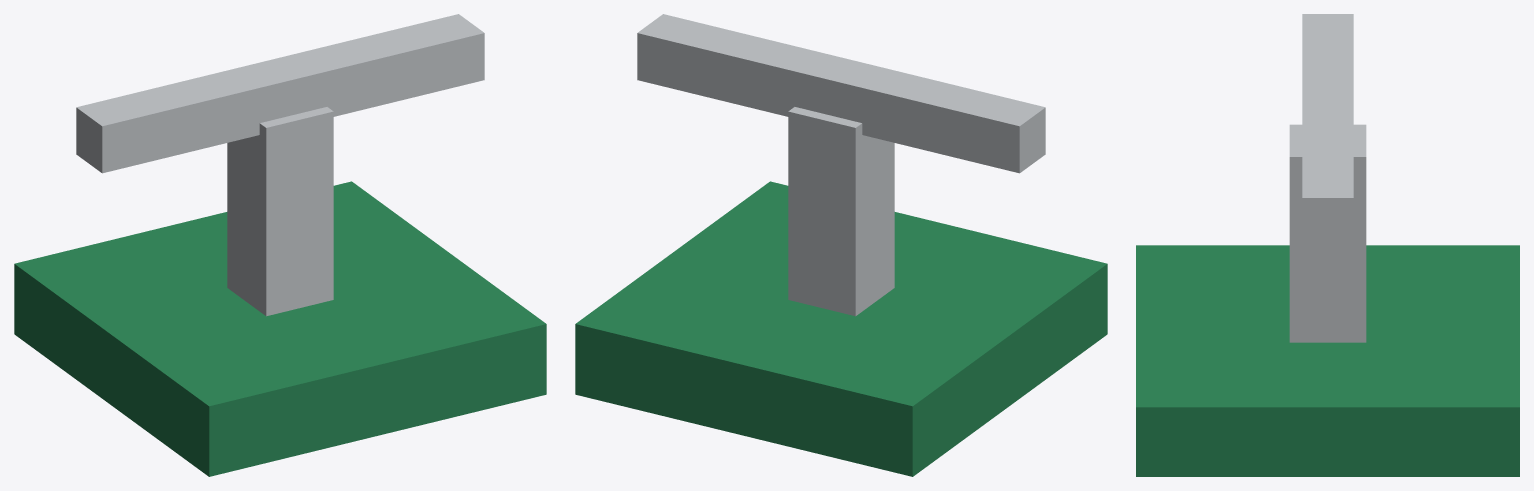
File: nguyens_sprinkler.glb
3 views of the same model, side by side, from view 1: azimuth 30°, elevation 25°; view 2: azimuth 150°, elevation 25°; view 3: azimuth 270°, elevation 25° (orthographic).
Parts seen in each view (by area): view 1: Box1, Box3, Box2; view 2: Box1, Box3, Box2; view 3: Box1, Box3, Box2.
Boxes of the visible parts, x1=… form: Box1: x1=14, y1=181, x2=546, y2=476; Box3: x1=76, y1=14, x2=484, y2=173; Box2: x1=227, y1=107, x2=333, y2=316; Box1: x1=575, y1=181, x2=1107, y2=476; Box3: x1=637, y1=14, x2=1045, y2=173; Box2: x1=788, y1=107, x2=894, y2=316; Box1: x1=1136, y1=245, x2=1519, y2=476; Box3: x1=1302, y1=14, x2=1353, y2=244; Box2: x1=1289, y1=124, x2=1366, y2=342.
Size of the model in its own units: 0.34 by 0.25 by 0.3.
